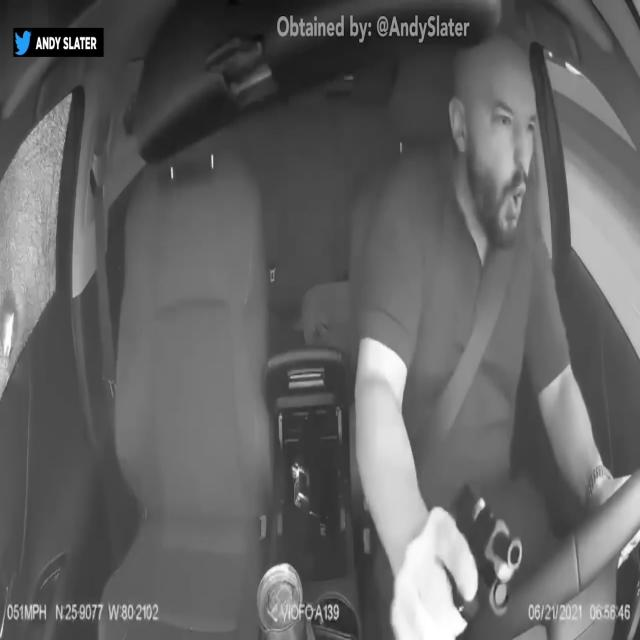senjata_api: (450, 481, 523, 624)
